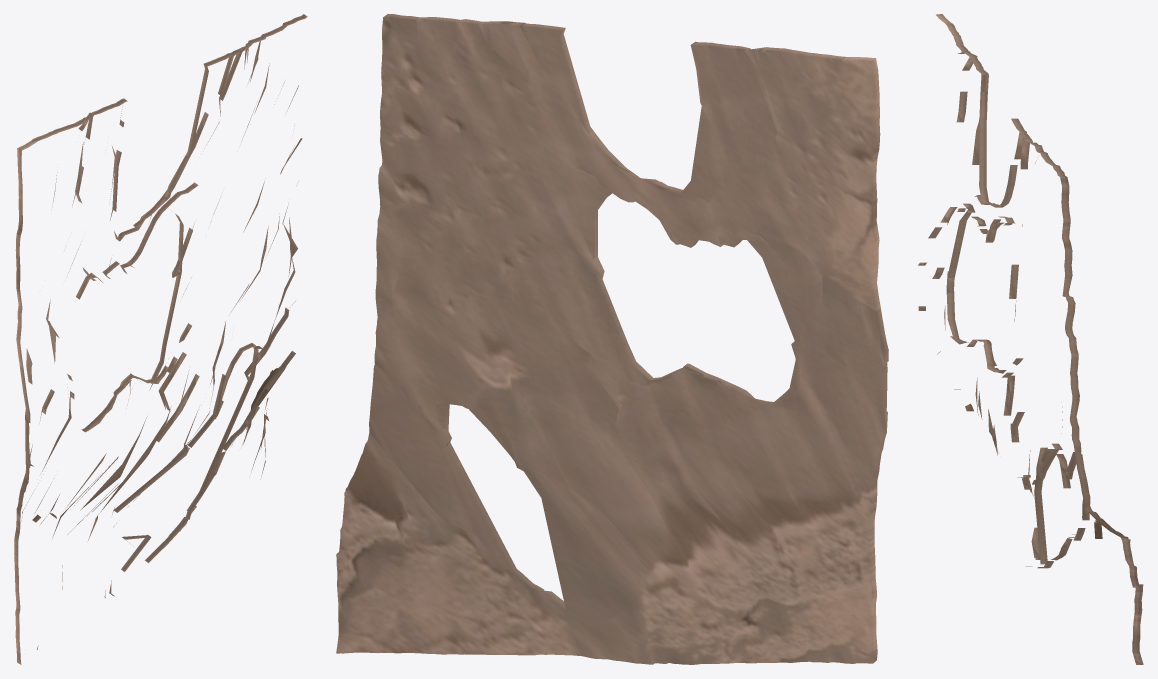
The picture shows the model from 3 angles, left to right: view 1: azimuth 30°, elevation 25°; view 2: azimuth 150°, elevation 25°; view 3: azimuth 270°, elevation 25°; orthographic projection. The views are drawn at different scales.
Size of the model in its own units: 0.5223 by 0.7275 by 0.3061.
1 material, 1 textured.
